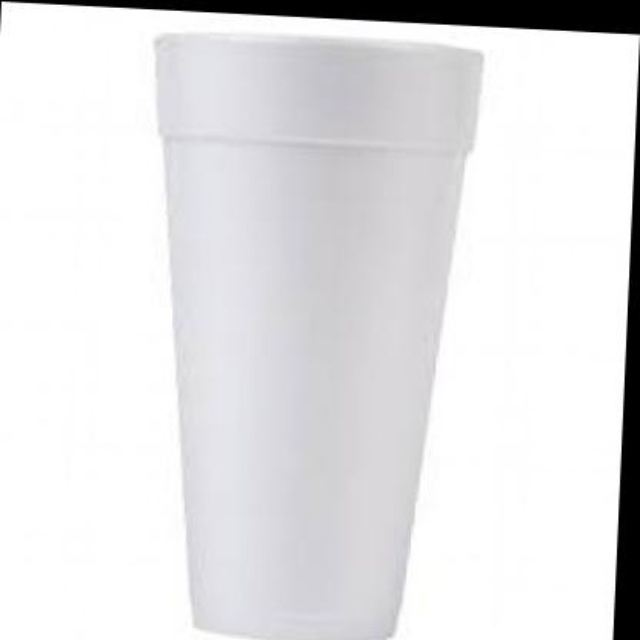trash: (157, 34, 482, 638)
